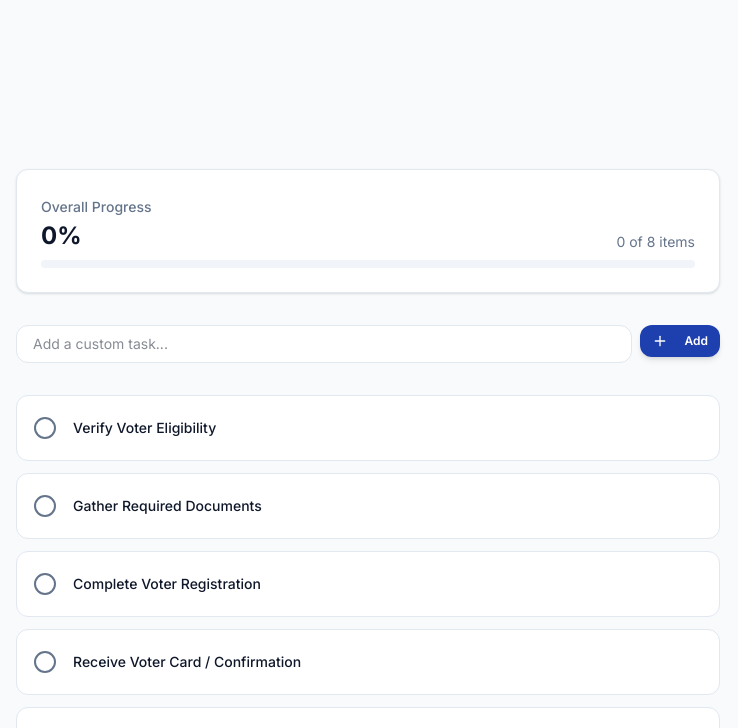
Test: ChecklistClient › can add a custom checklist item
Type "Bring photo ID" into the field with placeholder "Add a custom task..." at (324, 344), box 16,325 -> 632,363
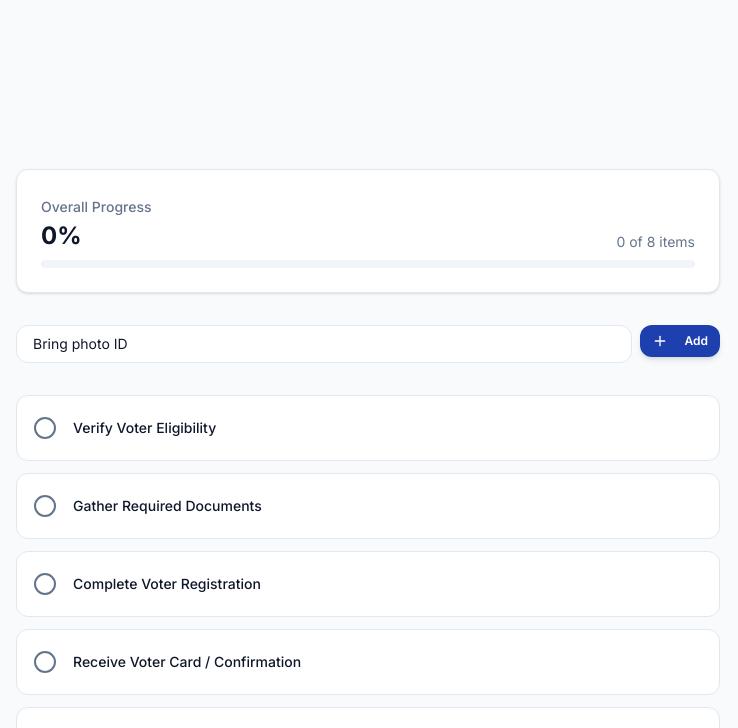
Click the button "Add" at (680, 341), box 640,325 -> 720,357
(page scrolled)
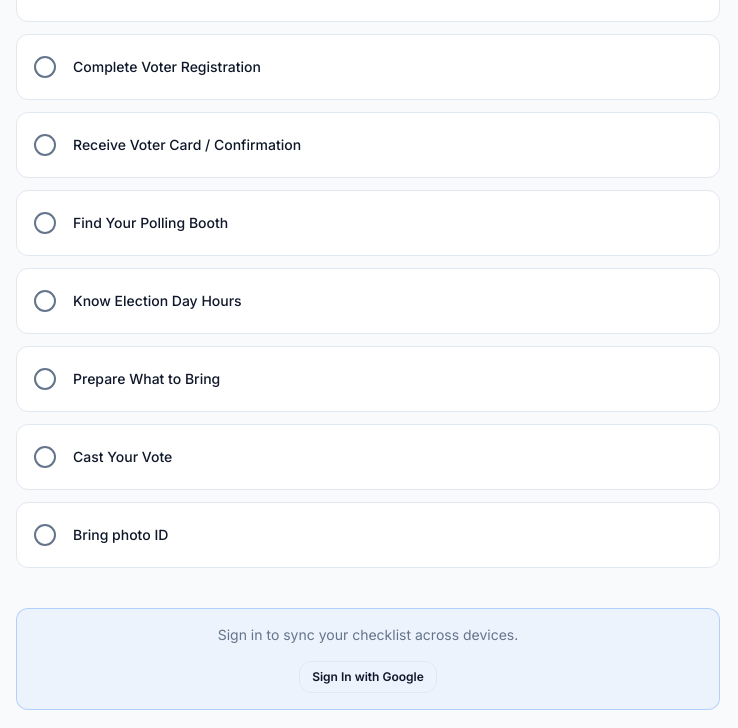
Check: the text "Bring photo ID" is shown, box 73,526 -> 168,543
